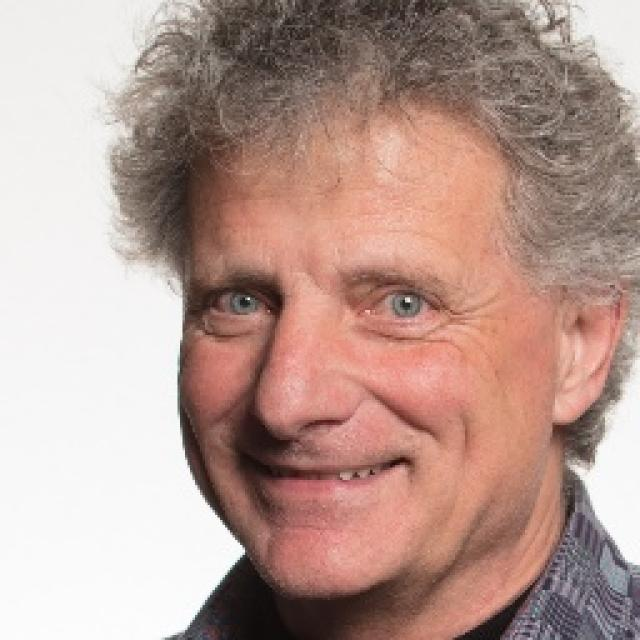earlobe: (555, 386, 600, 430)
eye: (362, 287, 439, 327), (207, 288, 270, 323)
nose: (249, 418, 359, 456)
wholeear: (552, 264, 626, 425)
